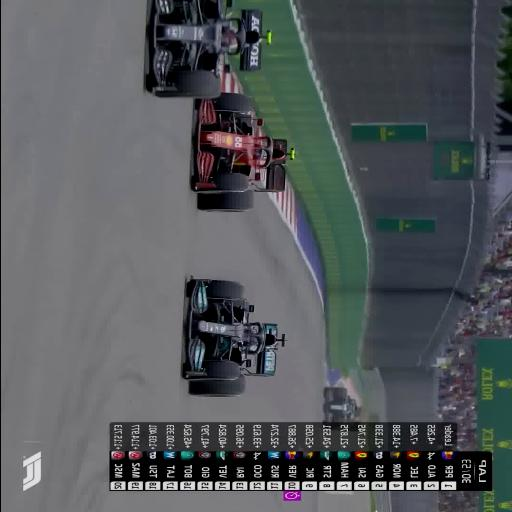f1_car: (146, 0, 271, 98), (192, 93, 294, 212), (183, 278, 285, 397), (323, 387, 360, 429)
